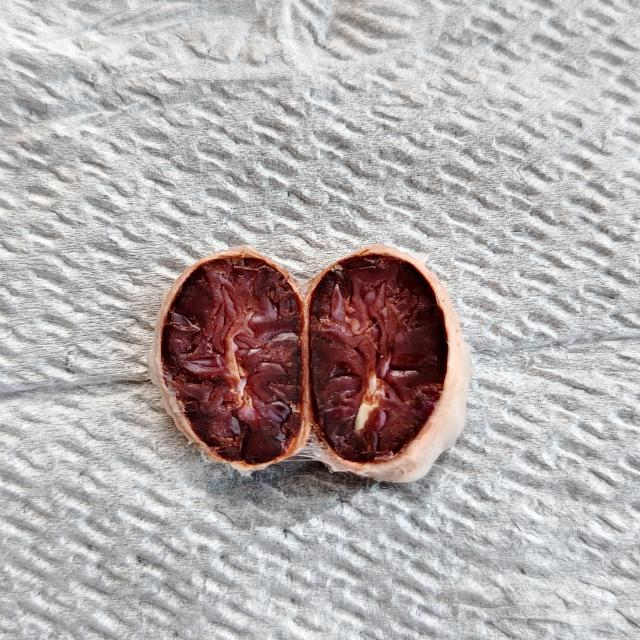Forastero: (310, 252, 449, 465), (167, 254, 305, 467)
